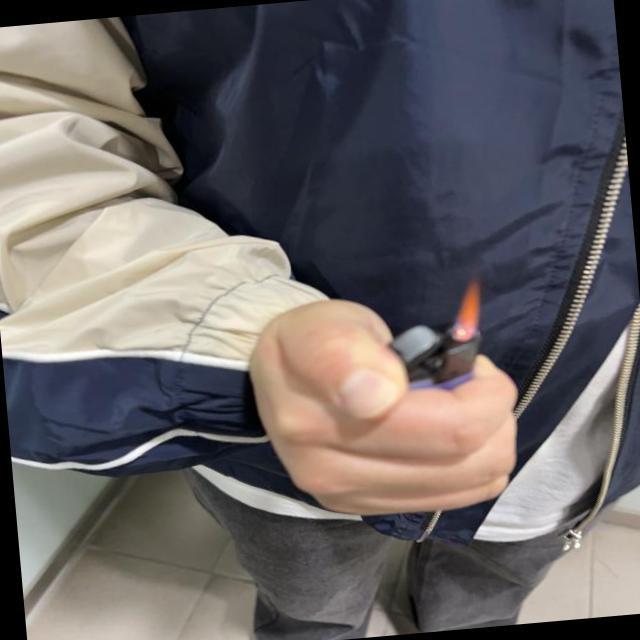Fire: (449, 278, 486, 336)
